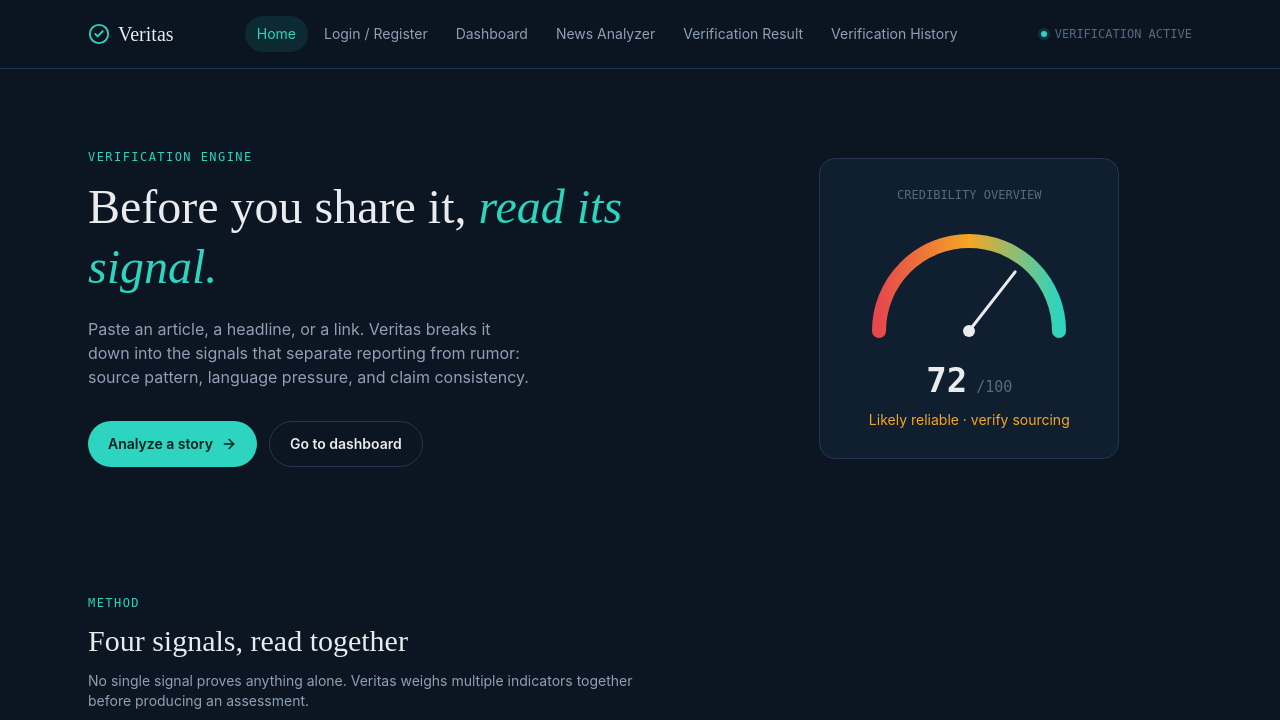
Test: Veritas app › navigates to the analyzer page
The image size is (1280, 720).
Click the button "News Analyzer" at [606, 34], box [544,16,667,52]
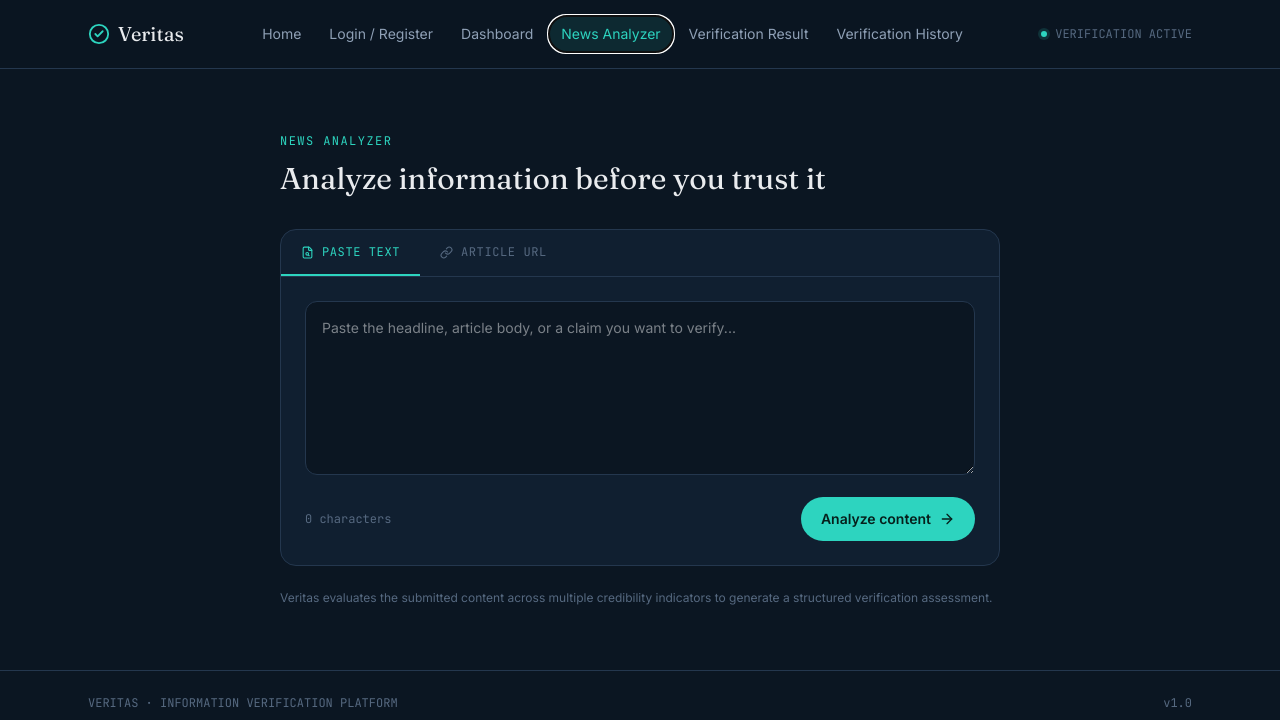
Expected: the heading "Analyze information before you trust it" is shown, [280,160,826,197]
